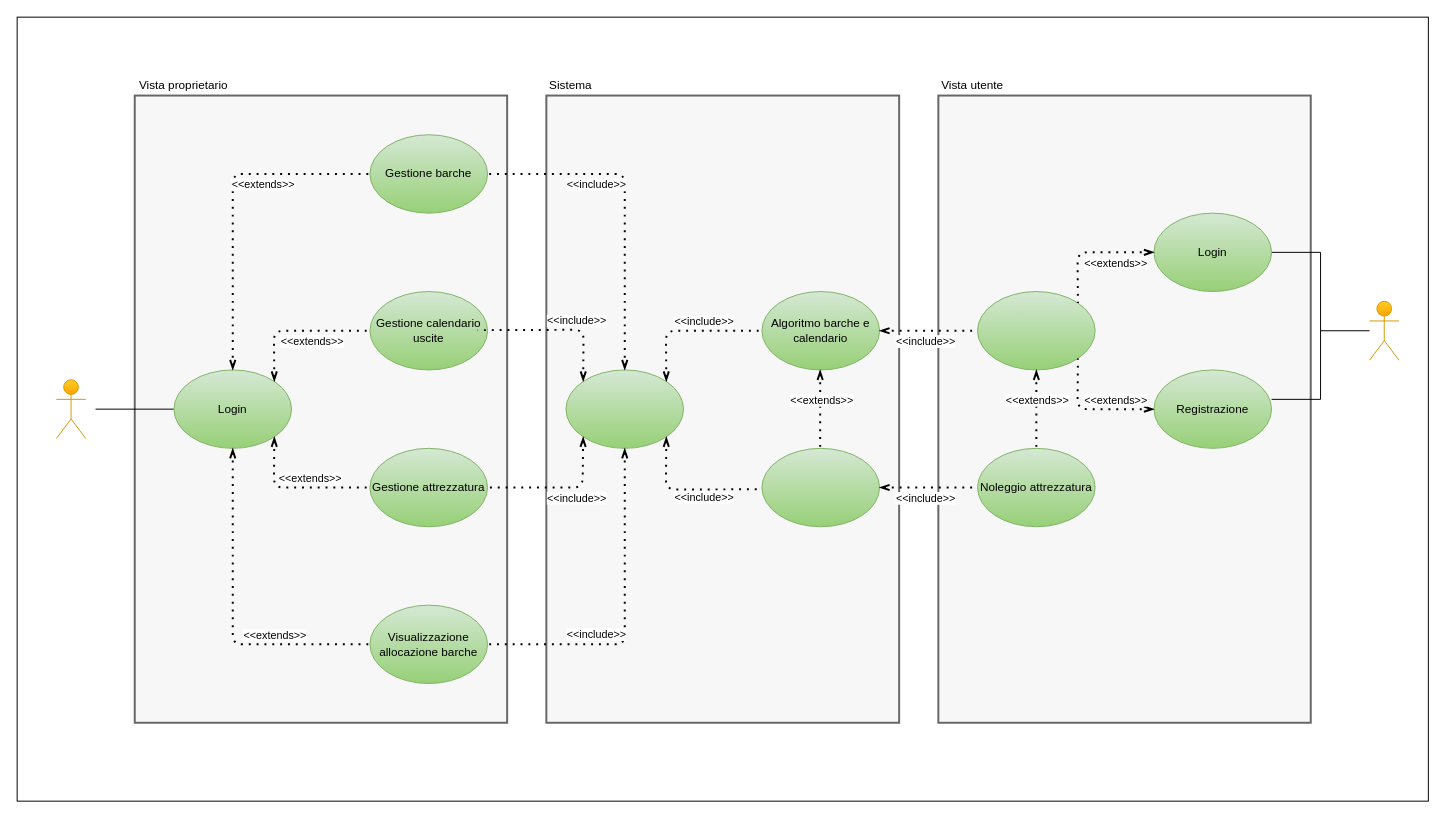
The diagram is 1446 pixels wide and 818 high, and some of its shapes have lost their labels. Each missing label, with the centre of its shape:
Algoritmo attrezzatura: (820,487)
Gestione dati: (624,408)
Prenotazioni: (1036,330)
Proprietario: (70,409)
Utente: (1384,330)
